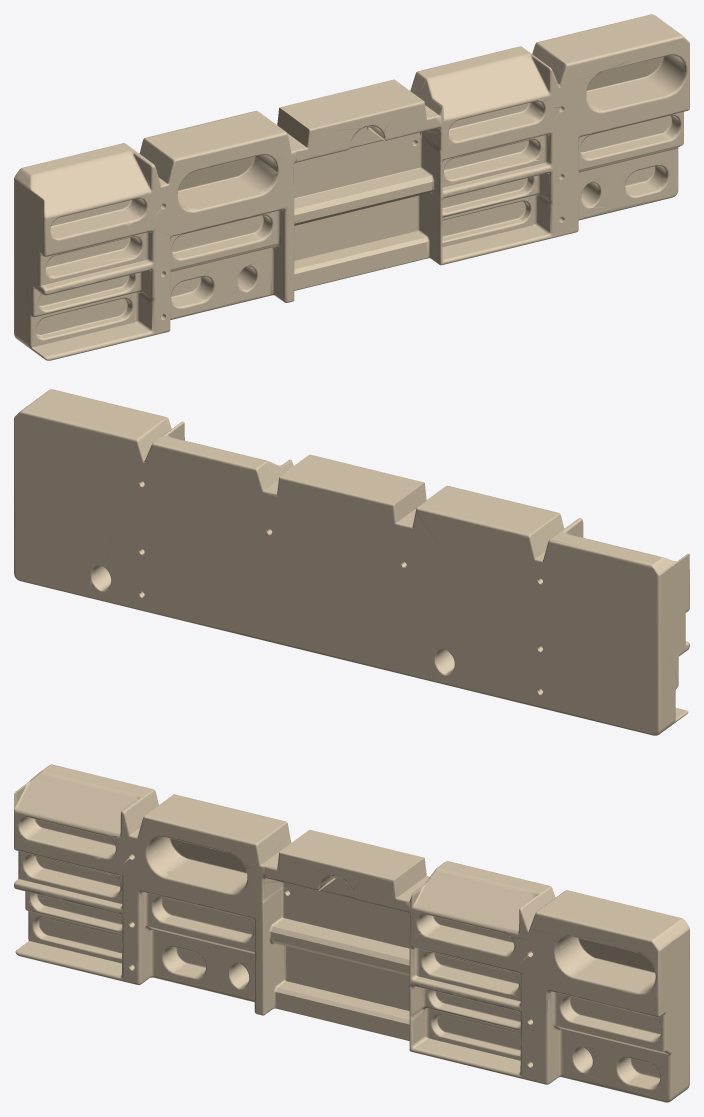
The model's file is moon-armstrong-ash.glb.
3 renders of one model, top to bottom at view 1: azimuth 30°, elevation 25°; view 2: azimuth 150°, elevation 25°; view 3: azimuth 330°, elevation 25°, orthographic.
Parts seen in each view (by area): view 1: body, hold-jug-centre, hold-top-35deg-right, hold-top-35deg-left, hold-jug-right, hold-jug-left, hold-edge-22mm-centre, hold-edge-15mm-right, hold-edge-15mm-left, hold-edge-25mm-left, hold-edge-20mm-right, hold-edge-20mm-left (+8 smaller); view 2: body, hold-jug-centre; view 3: body, hold-jug-centre, hold-top-35deg-right, hold-top-35deg-left, hold-jug-right, hold-jug-left, hold-edge-22mm-centre, hold-edge-15mm-right, hold-edge-15mm-left, hold-edge-25mm-left, hold-edge-20mm-right, hold-edge-20mm-left (+8 smaller).
Boxes of the visible parts, x1,y1,x2,y2 form: body: (14,14,689,360); hold-jug-centre: (277,79,438,162); hold-top-35deg-right: (426,52,551,125); hold-top-35deg-left: (28,151,152,219); hold-jug-right: (585,53,688,113); hold-jug-left: (176,153,279,213); hold-edge-22mm-centre: (294,163,433,217); hold-edge-15mm-right: (579,114,682,165); hold-edge-15mm-left: (171,214,273,261); hold-edge-25mm-left: (48,196,148,243); hold-edge-20mm-right: (442,137,543,185); hold-edge-20mm-left: (45,235,145,281); body: (14,389,689,735); hold-jug-centre: (276,454,426,533); body: (14,764,689,1102); hold-jug-centre: (266,830,426,912); hold-top-35deg-right: (410,867,542,934); hold-top-35deg-left: (14,771,140,839); hold-jug-right: (553,935,657,995); hold-jug-left: (145,835,248,895); hold-edge-22mm-centre: (270,913,409,965); hold-edge-15mm-right: (557,996,662,1042); hold-edge-15mm-left: (151,896,253,943); hold-edge-25mm-left: (16,815,116,859); hold-edge-20mm-right: (419,951,520,1000); hold-edge-20mm-left: (23,854,122,898).
Bounding box in the file's own units: 0.649 × 0.164 × 0.055.
